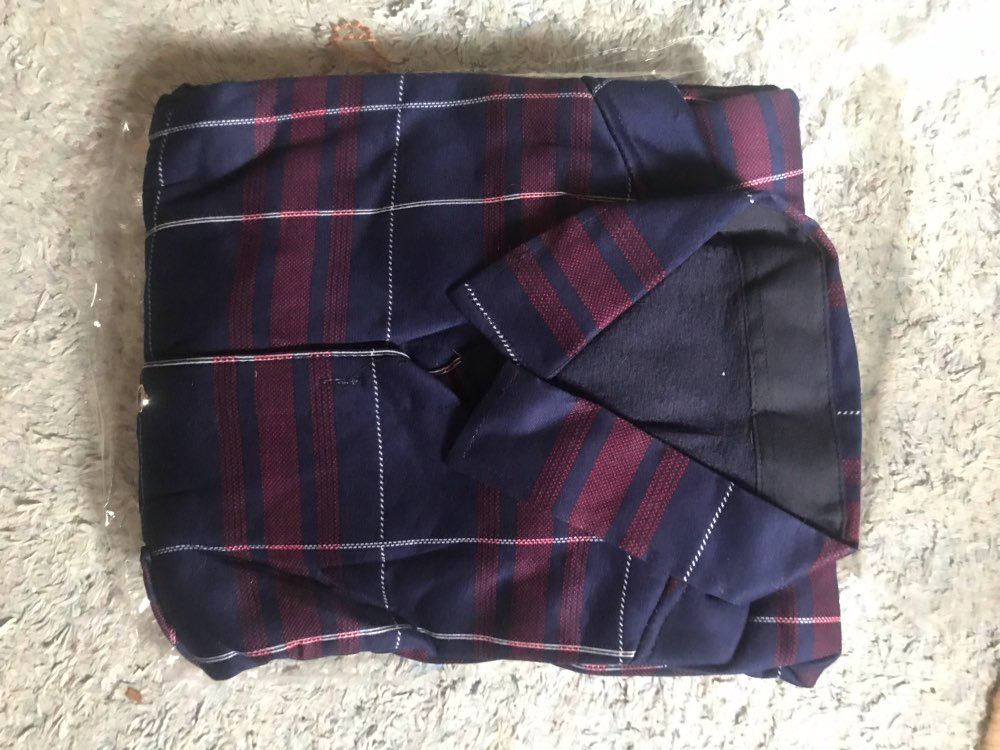shirts: (150, 87, 842, 658)
